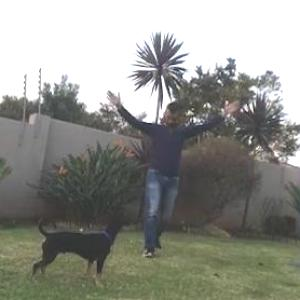takeoff: (107, 87, 244, 245)
